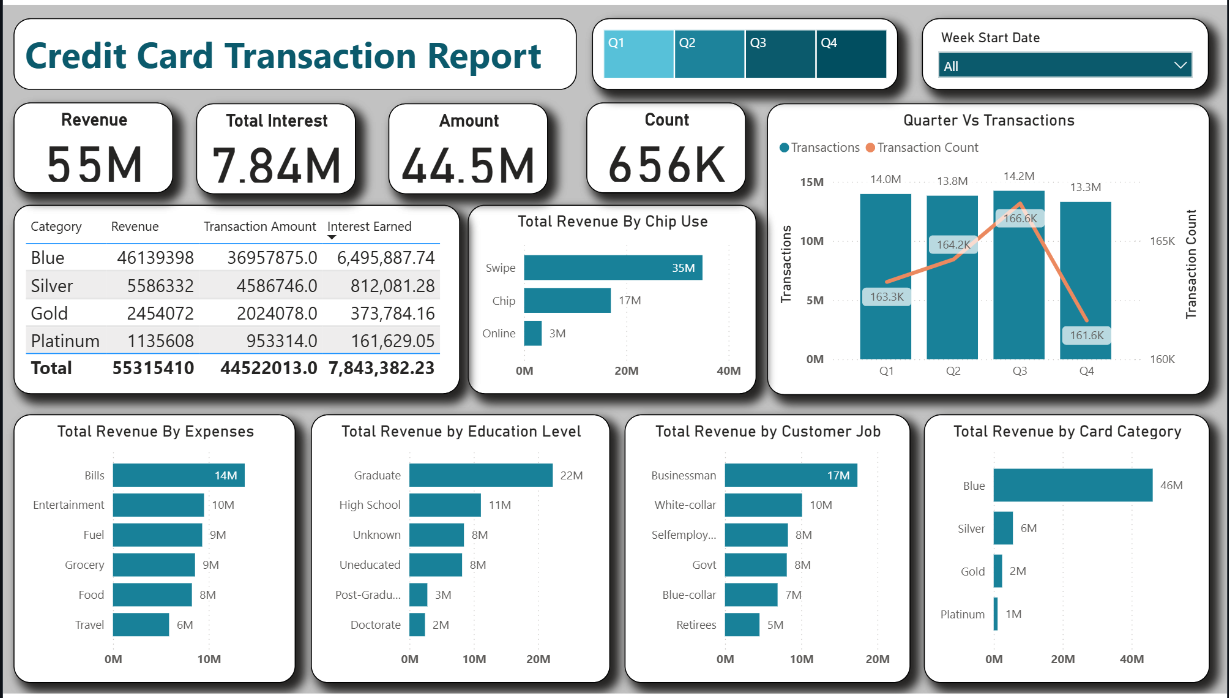

What the dashboard file says about the page in this screenshot:
{"tool":"powerbi","page":{"name":"CC_Transactions","canvas":[1280,720],"ordinal":0},"visuals":[{"type":"textbox","box":[10.9,14.1,589.2,75],"z":0},{"type":"lineStackedColumnComboChart","title":"Quarter Vs Transactions","fields":{"Category":["credit_card.Qtr"],"Y":["Sum(credit_card.Revenue)"],"Y2":["Sum(credit_card.Total_Trans_Vol)"]},"box":[798.7,103.2,462.6,304.8],"z":1000},{"type":"barChart","title":"Total Revenue By Expenses","fields":{"Y":["Sum(credit_card.Revenue)"],"Category":["credit_card.Exp Type"]},"box":[10.9,428.3,295.4,281.3],"z":2000},{"type":"barChart","title":"Total  Revenue by Education Level","fields":{"Category":["customer.Education_Level"],"Y":["Sum(credit_card.Revenue)"]},"box":[322,428.3,312.6,281.3],"z":3000},{"type":"barChart","title":"Total Revenue by Customer Job","fields":{"Category":["customer.Customer_Job"],"Y":["Sum(credit_card.Revenue)"]},"box":[650.2,428.3,298.5,281.3],"z":4000},{"type":"barChart","title":"Total Revenue by Card Category","fields":{"Category":["credit_card.Card_Category"],"Y":["Sum(credit_card.Revenue)"]},"box":[962.8,428.3,298.5,281.3],"z":5000},{"type":"barChart","title":"Total Revenue By Chip Use","fields":{"Category":["credit_card.Use Chip"],"Y":["Sum(credit_card.Revenue)"]},"box":[486.1,209.4,301.7,198.5],"z":6000},{"type":"tableEx","fields":{"Values":["credit_card.Card_Category","Sum(credit_card.Revenue)","Sum(credit_card.Total_Trans_Amt)","Sum(credit_card.Interest_Earned)"]},"box":[10.9,209.4,467.3,198.5],"z":7000},{"type":"card","title":"Revenue","fields":{"Values":["Sum(credit_card.Revenue)"]},"box":[10.9,101.6,167.2,95.3],"z":8000},{"type":"card","title":"Amount","fields":{"Values":["Sum(credit_card.Total_Trans_Amt)"]},"box":[403.3,103.2,167.2,95.3],"z":9000},{"type":"card","title":"Total Interest","fields":{"Values":["Sum(credit_card.Interest_Earned)"]},"box":[201.6,103.2,167.2,95.3],"z":10000},{"type":"card","title":"Count","fields":{"Values":["Sum(credit_card.Total_Trans_Vol)"]},"box":[609.6,101.6,167.2,95.3],"z":11000},{"type":"slicer","fields":{"Values":["credit_card.Week_Start_Date"]},"box":[961.2,14.1,300.1,75],"z":12000},{"type":"treemap","fields":{"Group":["credit_card.Qtr"],"Values":["Min(credit_card.Credit_Limit)"]},"box":[615.8,14.1,320.4,75],"z":13000}]}

Visuals, with their boxes in screenshot pixels (x1, y1, x2, y2), scaled from the page's 1280x720 canvas onto the 1229x698 screenshot:
textbox: crop(10, 14, 576, 86)
"Quarter Vs Transactions" lineStackedColumnComboChart: crop(767, 100, 1211, 396)
"Total Revenue By Expenses" barChart: crop(10, 415, 294, 688)
"Total  Revenue by Education Level" barChart: crop(309, 415, 609, 688)
"Total Revenue by Customer Job" barChart: crop(624, 415, 911, 688)
"Total Revenue by Card Category" barChart: crop(924, 415, 1211, 688)
"Total Revenue By Chip Use" barChart: crop(467, 203, 756, 395)
tableEx - credit_card.Card_Category x Sum(credit_card.Revenue): crop(10, 203, 459, 395)
"Revenue" card: crop(10, 98, 171, 191)
"Amount" card: crop(387, 100, 548, 192)
"Total Interest" card: crop(194, 100, 354, 192)
"Count" card: crop(585, 98, 746, 191)
slicer - credit_card.Week_Start_Date: crop(923, 14, 1211, 86)
treemap - credit_card.Qtr x Min(credit_card.Credit_Limit): crop(591, 14, 899, 86)
